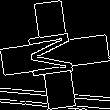M_E: (27, 28, 83, 82)
